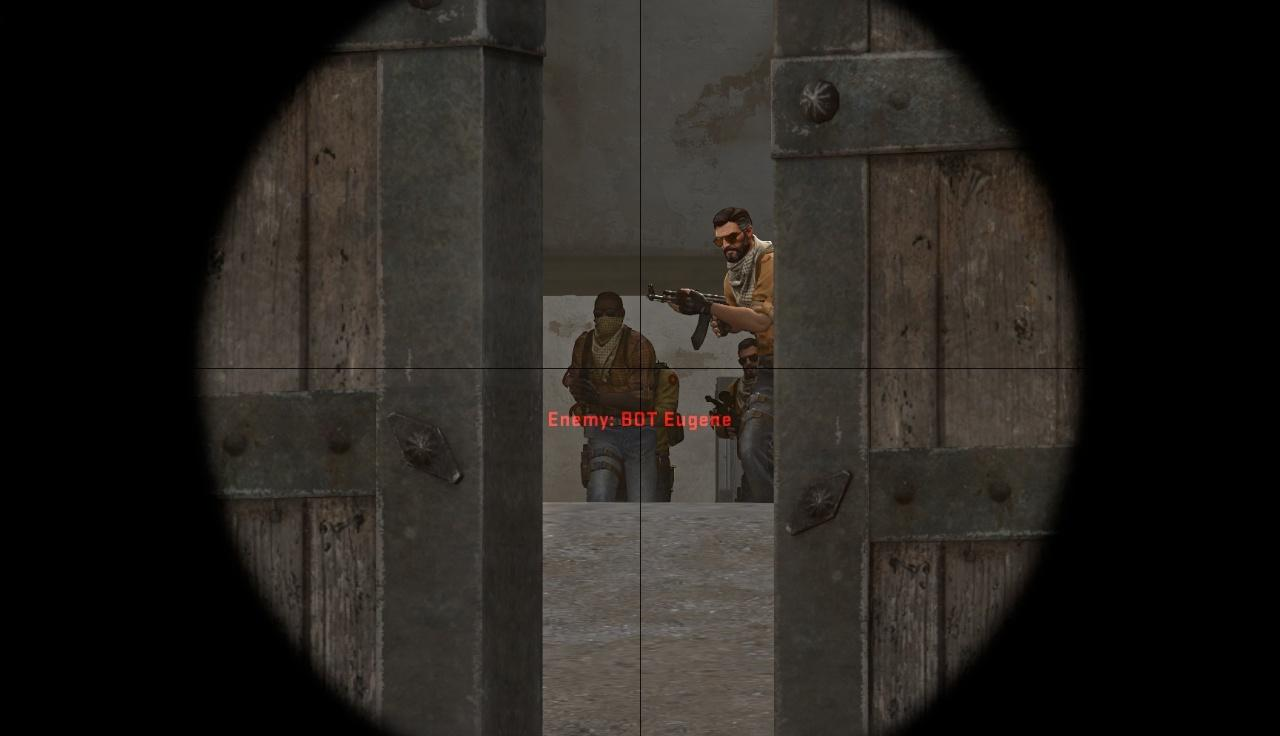tt: (712, 209, 774, 503), (573, 292, 656, 501)
tthead: (714, 210, 751, 261), (594, 293, 624, 337), (734, 340, 757, 377)
